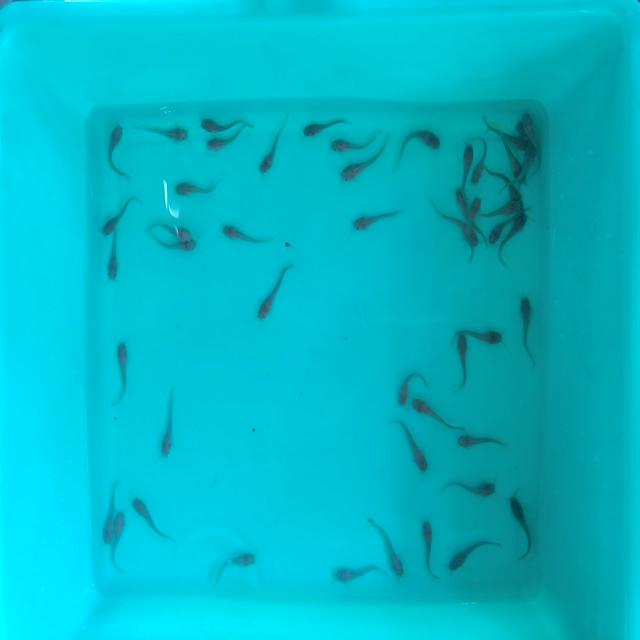lele: (365, 514, 408, 574), (253, 262, 296, 322), (129, 494, 177, 546), (394, 416, 434, 474), (409, 390, 464, 432), (448, 535, 502, 575), (100, 192, 141, 239), (509, 495, 539, 558), (258, 113, 289, 172), (103, 121, 131, 182), (416, 516, 441, 580), (205, 123, 252, 156), (518, 296, 539, 369), (392, 128, 446, 156), (207, 550, 259, 578), (338, 157, 383, 186), (508, 214, 532, 265), (351, 206, 398, 231), (440, 217, 480, 246), (223, 224, 271, 248), (336, 563, 390, 584), (112, 505, 127, 577), (300, 116, 349, 138), (447, 477, 499, 497), (468, 132, 488, 184), (113, 342, 129, 406), (161, 390, 176, 458), (328, 132, 373, 154), (454, 326, 503, 346), (199, 117, 250, 135), (148, 217, 191, 238), (455, 334, 470, 393), (398, 369, 420, 407), (524, 102, 542, 148), (488, 177, 522, 201), (454, 434, 505, 450), (481, 120, 518, 142), (151, 124, 192, 143), (502, 144, 524, 178), (152, 238, 198, 254), (176, 181, 218, 198), (104, 483, 116, 542), (105, 233, 118, 280), (481, 203, 519, 219), (450, 190, 470, 216), (487, 221, 508, 245), (522, 146, 536, 178), (470, 195, 485, 224), (514, 115, 525, 140)
